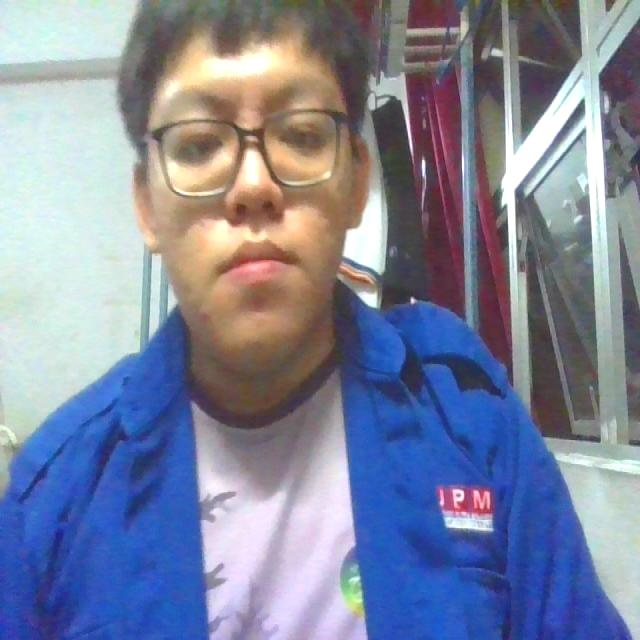person_with_labcoat: (0, 0, 632, 639)
